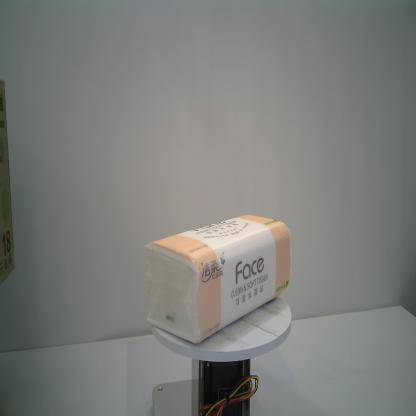Tissue: (144, 213, 292, 344)
